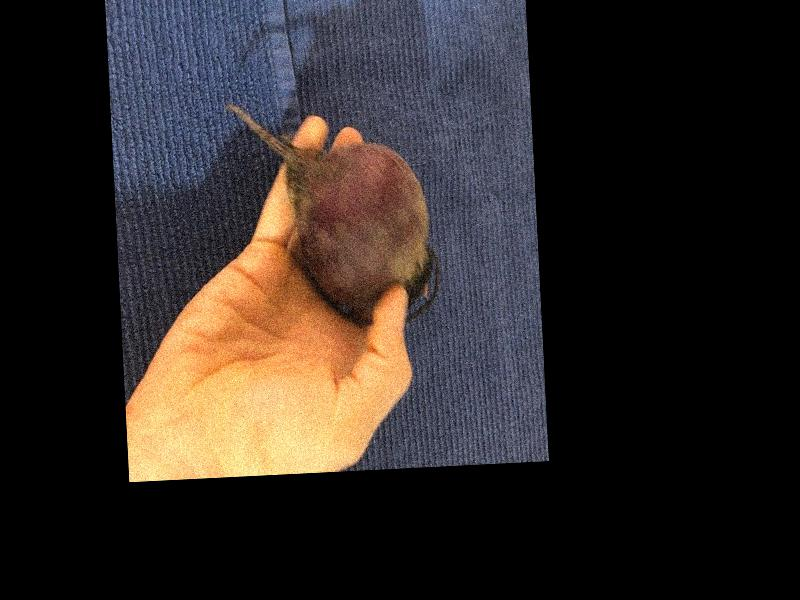Beet: (224, 92, 442, 330)
